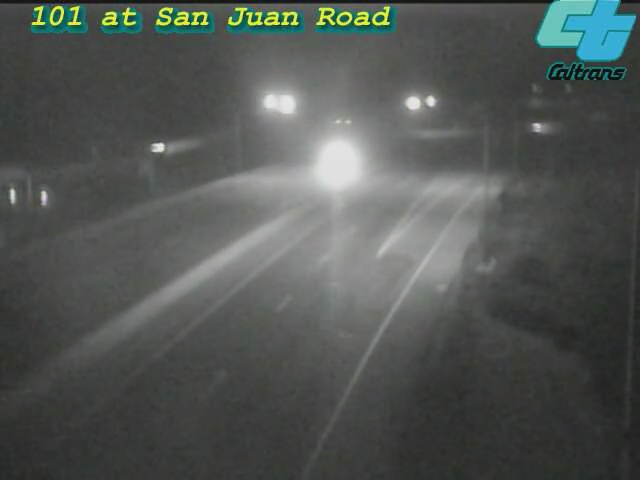vehicle: (298, 123, 378, 203), (517, 104, 567, 154)
